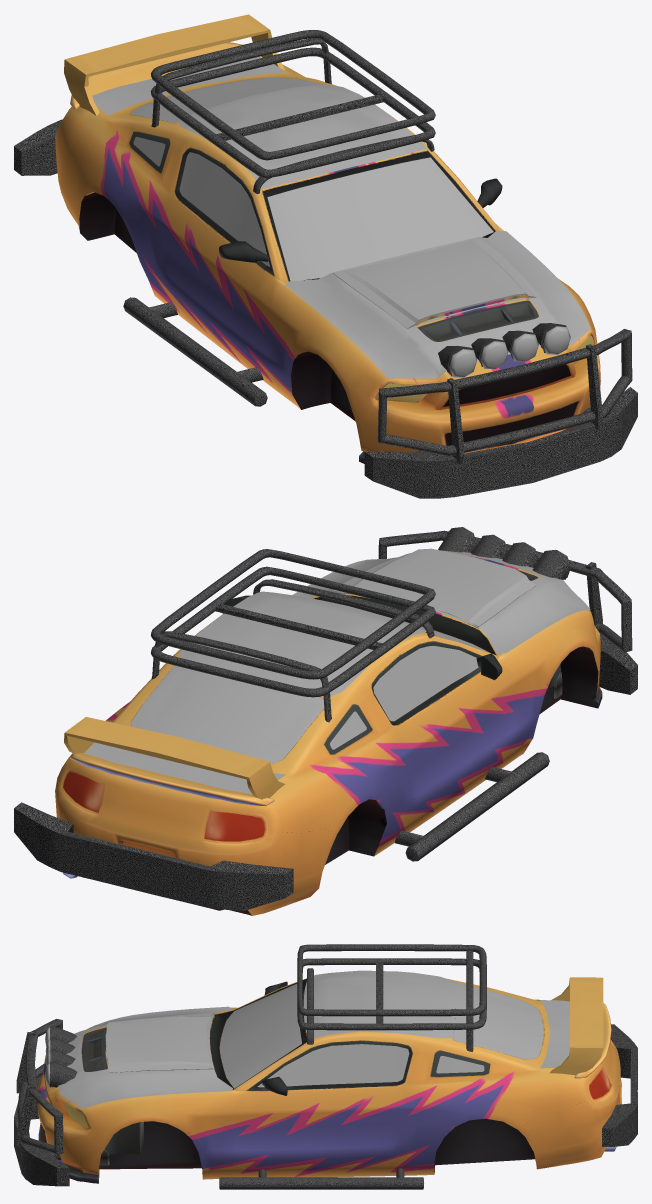
The model's file is FordMustang2012New.fbx.
3 renders of one model, top to bottom at view 1: azimuth 30°, elevation 25°; view 2: azimuth 150°, elevation 25°; view 3: azimuth 270°, elevation 25°, orthographic. The views are drawn at different scales.
Parts seen in each view (by area): view 1: Ford_base_2, ford_carbon, pasted__pasted__polySurface31, pasted__pasted__polySurface21, polySurface2, polySurface3, polySurface1, pasted__pasted__sup1_base1; view 2: Ford_base_2, ford_carbon, pasted__pasted__polySurface31, pasted__pasted__polySurface21, polySurface1, polySurface3, polySurface2, pasted__pasted__sup1_base1; view 3: Ford_base_2, ford_carbon, pasted__pasted__polySurface31, pasted__pasted__polySurface21, polySurface1, polySurface3, polySurface2, pasted__pasted__sup1_base1.
Part boxes in pixels (bbox=[...]): Ford_base_2: bbox=[57, 42, 599, 422]; ford_carbon: bbox=[92, 57, 590, 378]; pasted__pasted__polySurface31: bbox=[123, 30, 570, 406]; pasted__pasted__polySurface21: bbox=[14, 119, 637, 498]; polySurface2: bbox=[356, 355, 600, 463]; polySurface3: bbox=[64, 14, 285, 115]; polySurface1: bbox=[55, 130, 116, 240]; pasted__pasted__sup1_base1: bbox=[219, 178, 502, 262]; Ford_base_2: bbox=[55, 554, 599, 878]; ford_carbon: bbox=[84, 548, 590, 794]; pasted__pasted__polySurface31: bbox=[151, 527, 570, 861]; pasted__pasted__polySurface21: bbox=[14, 530, 637, 910]; polySurface1: bbox=[55, 791, 336, 915]; polySurface3: bbox=[64, 717, 285, 799]; polySurface2: bbox=[560, 626, 602, 708]; pasted__pasted__sup1_base1: bbox=[222, 595, 502, 680]; Ford_base_2: bbox=[44, 978, 620, 1179]; ford_carbon: bbox=[58, 970, 569, 1108]; pasted__pasted__polySurface31: bbox=[45, 944, 486, 1189]; pasted__pasted__polySurface21: bbox=[14, 1019, 637, 1186]; polySurface1: bbox=[518, 1078, 621, 1169]; polySurface3: bbox=[550, 977, 603, 1075]; polySurface2: bbox=[37, 1072, 100, 1183]; pasted__pasted__sup1_base1: bbox=[262, 981, 287, 1095].
Bounding box in the file's own units: 216 × 150 × 502.
